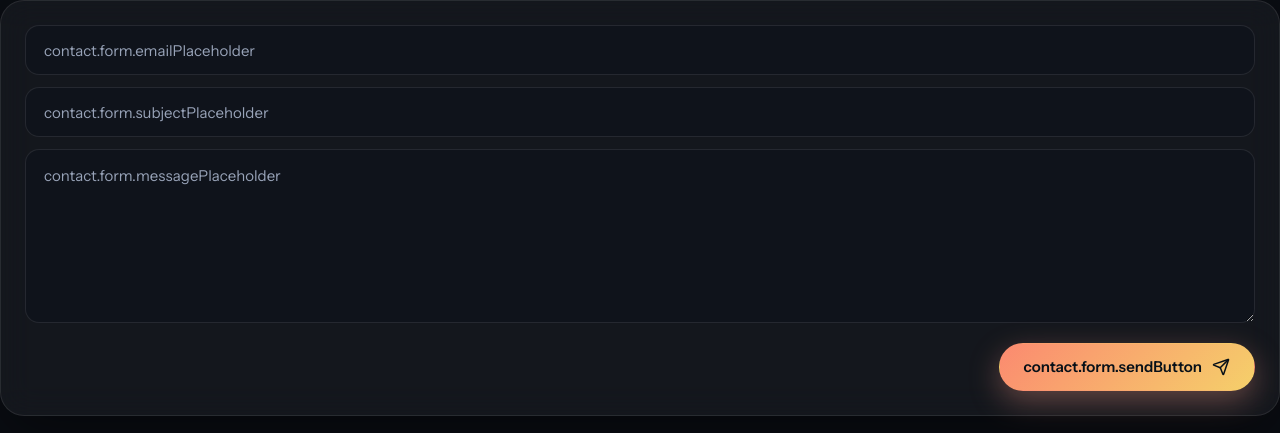
it: ContactForm › failed submission › should preserve form values when sending fails
Step 1. Type "user@test.com" into the field with placeholder "contact.form.emailPlaceholder" → (640, 50), box x1=25 y1=25 x2=1255 y2=75
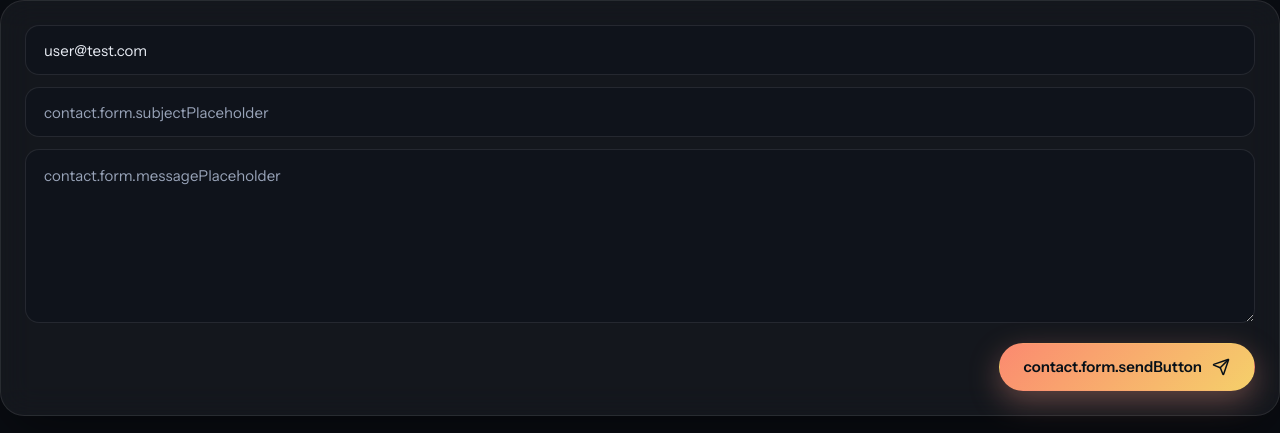
Step 2. Type "My Subject" into the field with placeholder "contact.form.subjectPlaceholder" → (640, 112), box x1=25 y1=87 x2=1255 y2=137
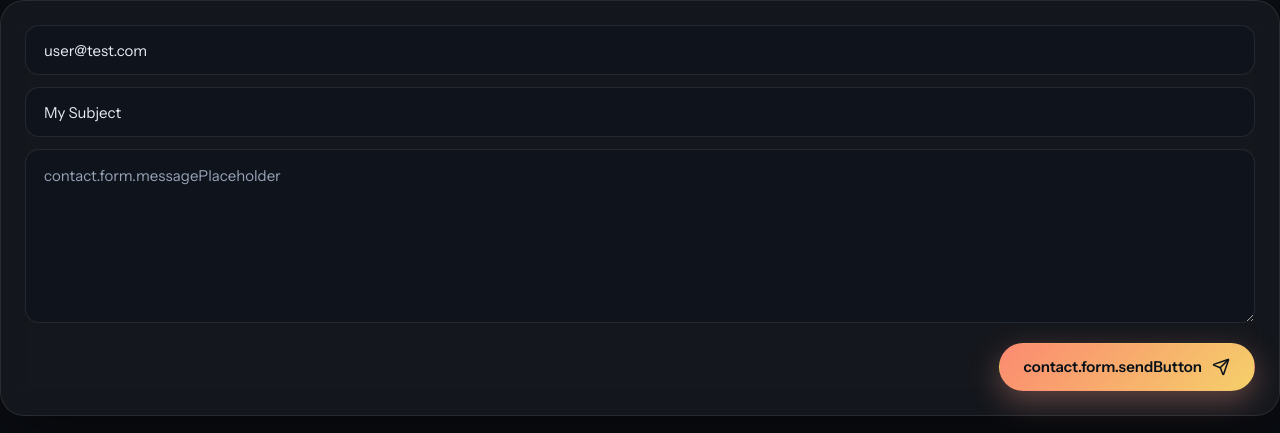
Step 3. Type "This is a message that should be preserved" into the text box with placeholder "contact.form.messagePlaceholder" → (640, 236), box x1=25 y1=149 x2=1255 y2=323
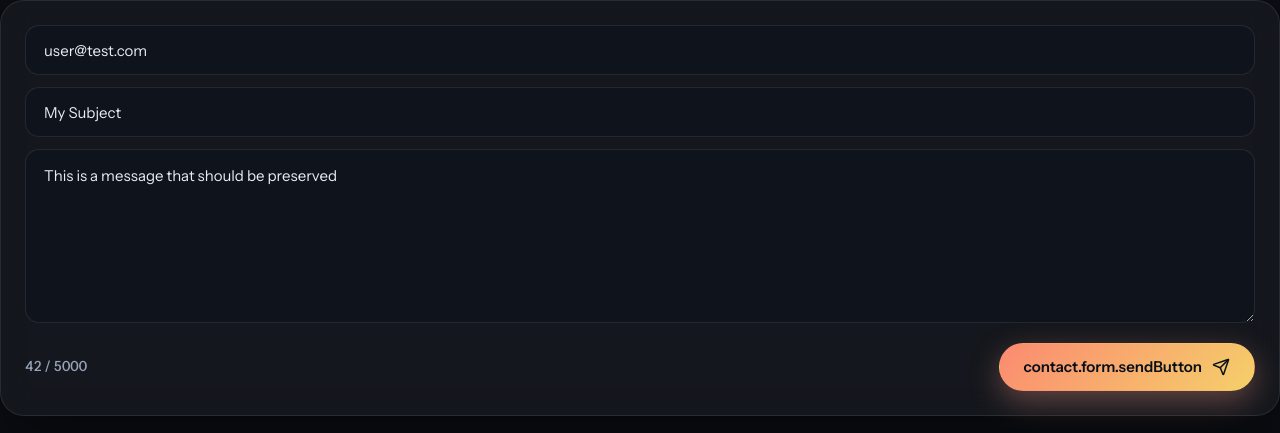
Step 4. Click the button "contact.form.sendButton" → (1127, 367), box x1=998 y1=343 x2=1255 y2=391
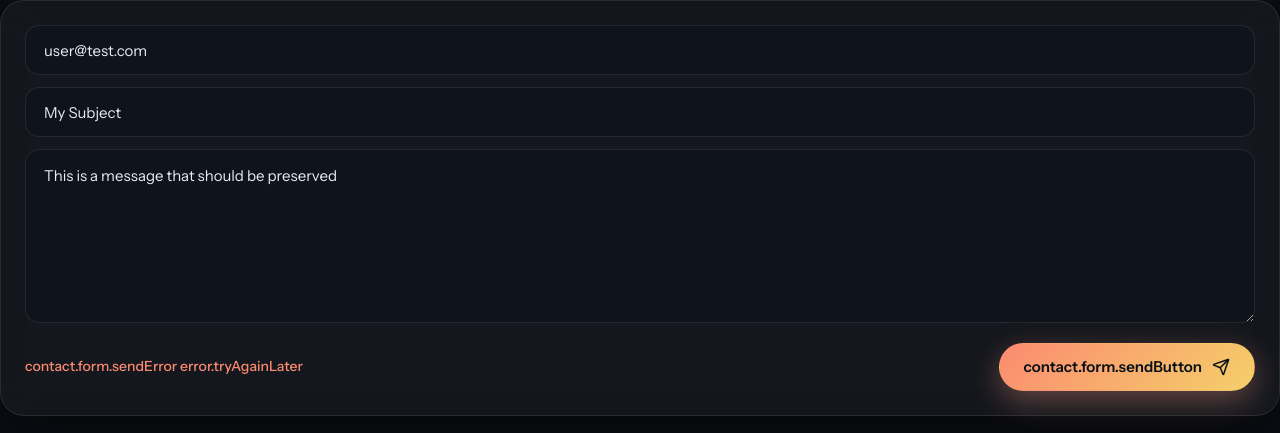
Expected: the text "contact.form.sendError error.tryAgainLater" is shown, x1=25 y1=355 x2=303 y2=378
